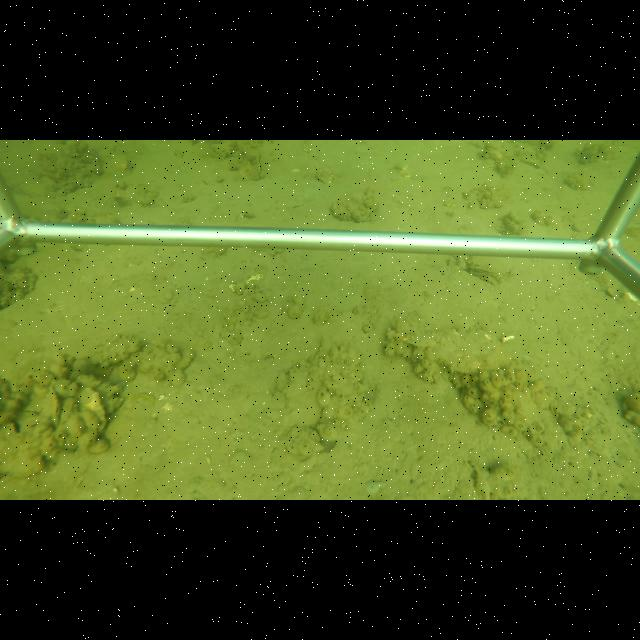Oyster-Closed: (81, 386, 110, 439), (461, 259, 508, 280), (241, 145, 265, 181)
